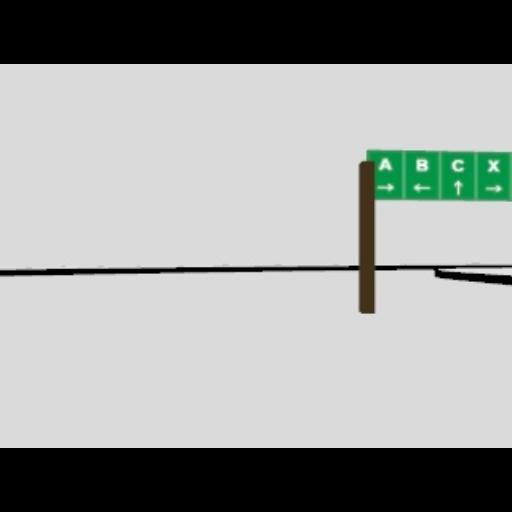A: (378, 156, 392, 170)
B: (415, 158, 429, 172)
C: (452, 158, 464, 172)
Left: (412, 182, 430, 190)
Right: (484, 184, 502, 192), (376, 182, 394, 190)
Straight: (453, 179, 463, 195)
X: (486, 158, 500, 172)
